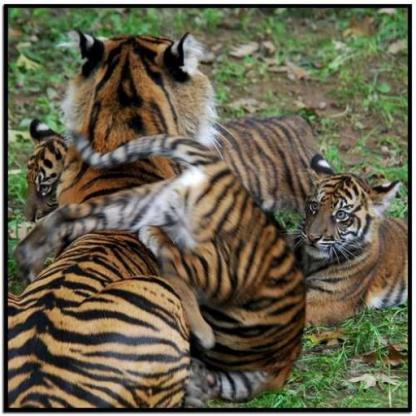Tiger: (7, 20, 237, 415), (135, 142, 329, 408), (274, 153, 415, 320)
